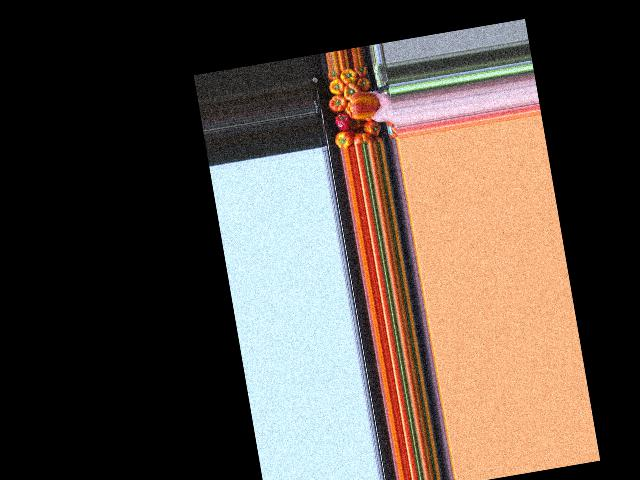bell_pepper: (362, 118, 379, 139)
